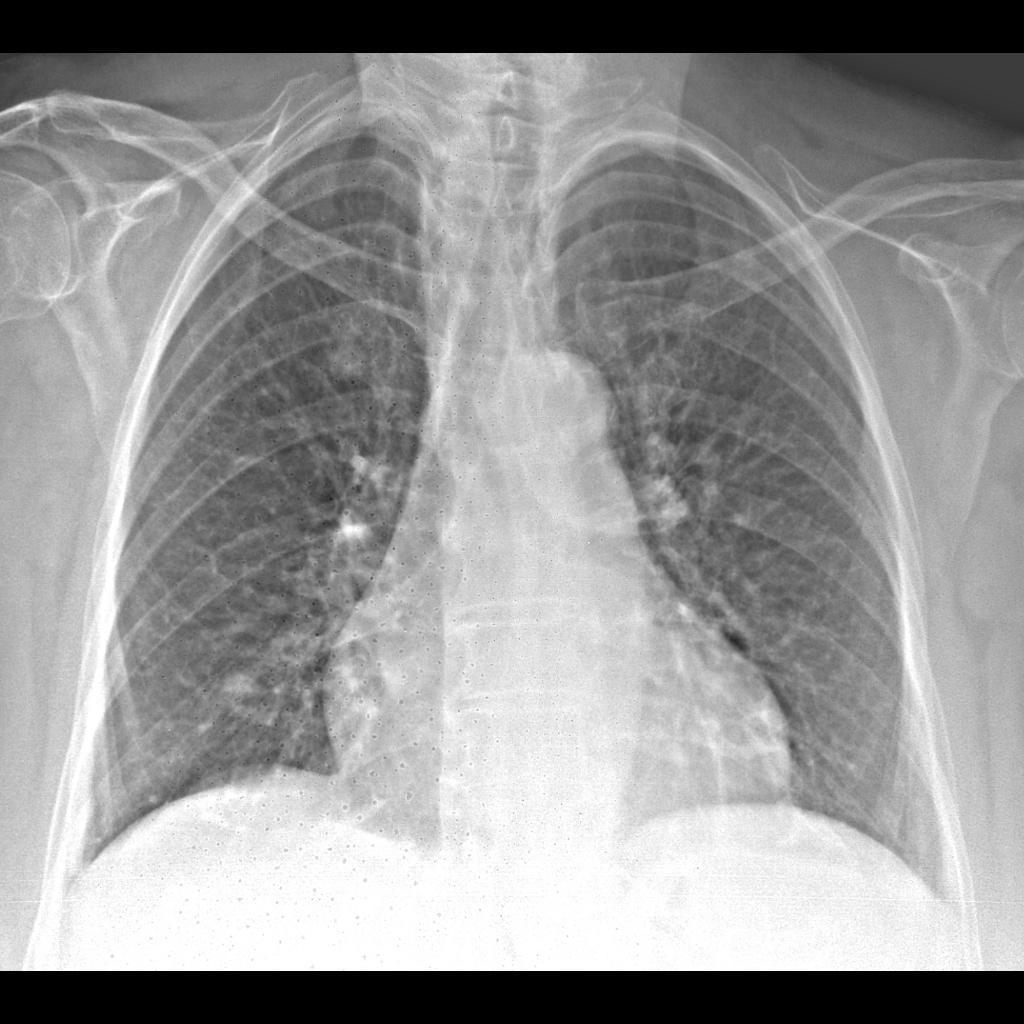Nodule: (212, 662, 269, 720)
